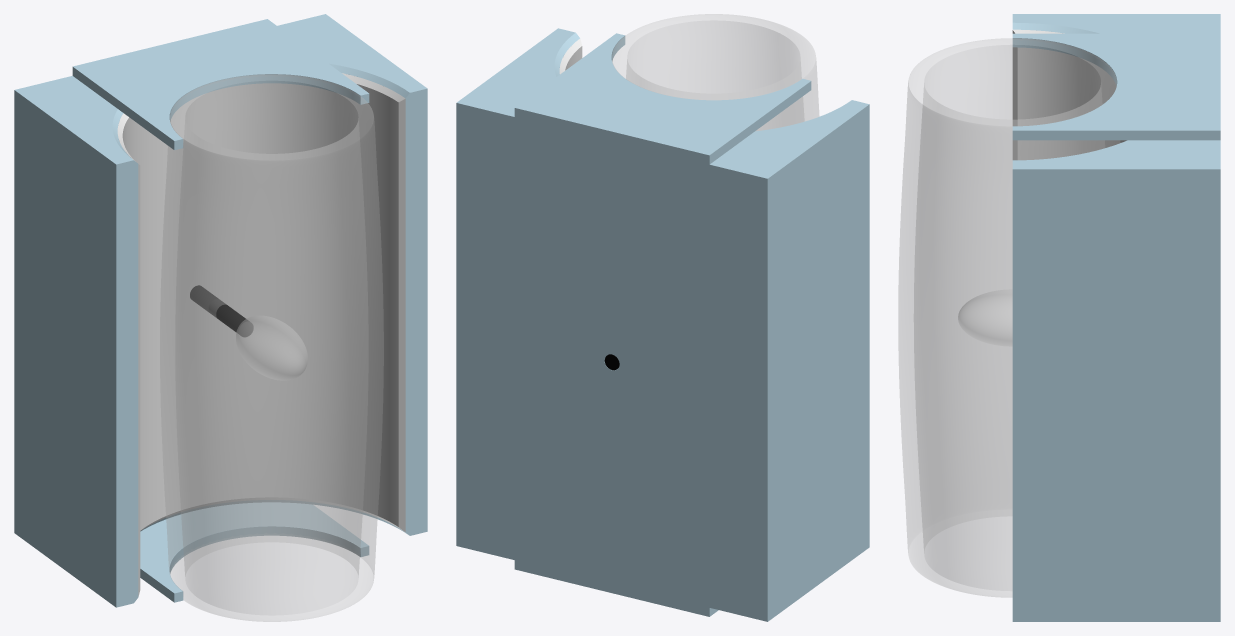
Rendered from Part Studio 1 (1).gltf.
3 renders of one model, left to right at view 1: azimuth 30°, elevation 25°; view 2: azimuth 150°, elevation 25°; view 3: azimuth 270°, elevation 25°, orthographic. The views are drawn at different scales.
Visible parts, largest first — view 1: mesh11_meshnode_11, mesh17_meshnode_17, mesh12_meshnode_12, mesh2_meshnode_2, mesh39_meshnode_39, mesh5_meshnode_5, mesh1_meshnode_1, mesh7_meshnode_7, mesh32_meshnode_32, mesh13_meshnode_13, mesh41_meshnode_41, mesh21_meshnode_21 (+10 smaller); view 2: mesh3_meshnode_3, mesh2_meshnode_2, mesh11_meshnode_11, mesh39_meshnode_39, mesh12_meshnode_12, mesh7_meshnode_7, mesh13_meshnode_13, mesh35_meshnode_35, mesh27_meshnode_27, mesh34_meshnode_34; view 3: mesh4_meshnode_4, mesh11_meshnode_11, mesh12_meshnode_12, mesh39_meshnode_39, mesh7_meshnode_7, mesh17_meshnode_17, mesh13_meshnode_13, mesh41_meshnode_41, mesh36_meshnode_36, mesh14_meshnode_14, mesh38_meshnode_38, mesh22_meshnode_22 (+1 smaller).
Boxes of the visible parts, bbox=[...] form: mesh11_meshnode_11: bbox=[160, 75, 383, 621]; mesh17_meshnode_17: bbox=[122, 83, 398, 530]; mesh12_meshnode_12: bbox=[175, 81, 368, 614]; mesh2_meshnode_2: bbox=[14, 90, 116, 607]; mesh39_meshnode_39: bbox=[73, 19, 368, 140]; mesh5_meshnode_5: bbox=[405, 88, 427, 535]; mesh1_meshnode_1: bbox=[116, 160, 138, 607]; mesh7_meshnode_7: bbox=[15, 14, 427, 164]; mesh32_meshnode_32: bbox=[140, 502, 368, 593]; mesh13_meshnode_13: bbox=[170, 75, 372, 159]; mesh41_meshnode_41: bbox=[236, 316, 307, 380]; mesh21_meshnode_21: bbox=[398, 99, 405, 531]; mesh3_meshnode_3: bbox=[456, 103, 767, 621]; mesh2_meshnode_2: bbox=[767, 104, 869, 621]; mesh11_meshnode_11: bbox=[612, 14, 819, 130]; mesh39_meshnode_39: bbox=[515, 33, 810, 155]; mesh12_meshnode_12: bbox=[626, 21, 804, 130]; mesh7_meshnode_7: bbox=[456, 28, 869, 178]; mesh13_meshnode_13: bbox=[612, 14, 814, 99]; mesh35_meshnode_35: bbox=[514, 108, 709, 164]; mesh27_meshnode_27: bbox=[514, 560, 709, 616]; mesh34_meshnode_34: bbox=[709, 81, 811, 163]; mesh4_meshnode_4: bbox=[1012, 169, 1220, 621]; mesh11_meshnode_11: bbox=[898, 39, 1120, 596]; mesh12_meshnode_12: bbox=[914, 45, 1104, 590]; mesh39_meshnode_39: bbox=[1012, 33, 1220, 130]; mesh7_meshnode_7: bbox=[1012, 14, 1220, 169]; mesh17_meshnode_17: bbox=[1017, 47, 1126, 159]; mesh13_meshnode_13: bbox=[909, 39, 1115, 125]; mesh41_meshnode_41: bbox=[958, 289, 1012, 346]; mesh36_meshnode_36: bbox=[1012, 130, 1220, 140]; mesh14_meshnode_14: bbox=[909, 533, 1011, 596]; mesh38_meshnode_38: bbox=[1012, 38, 1117, 85]; mesh22_meshnode_22: bbox=[1012, 30, 1017, 159].
Bounding box in the file's own units: 0.4483 × 0.635 × 0.3937.
